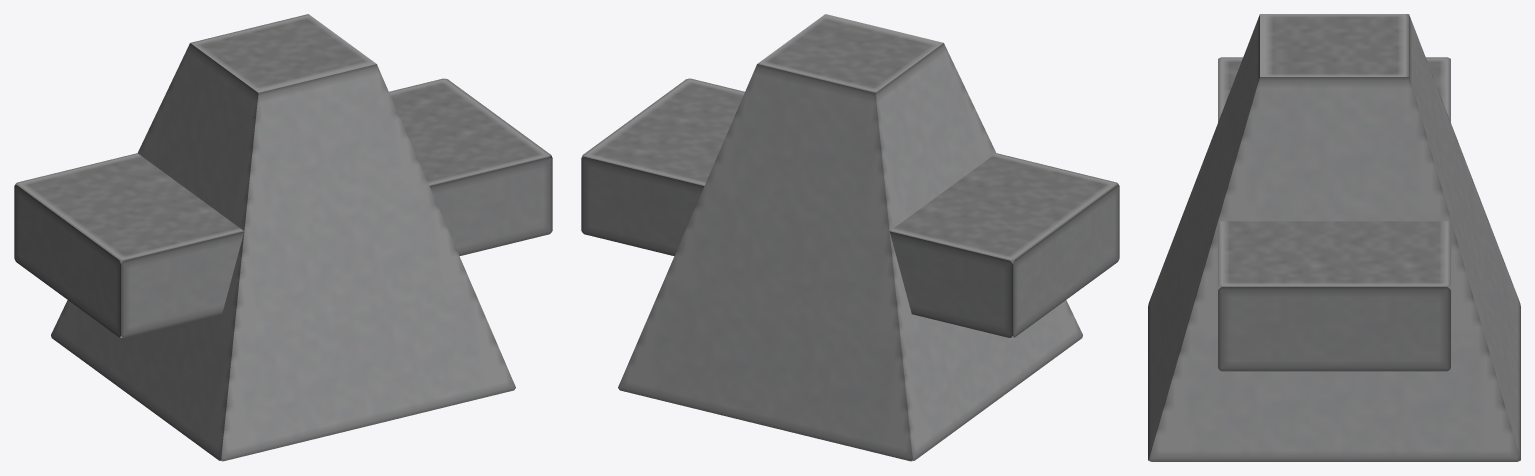
File: thick_mast.obj
3 renders of one model, left to right at view 1: azimuth 30°, elevation 25°; view 2: azimuth 150°, elevation 25°; view 3: azimuth 270°, elevation 25°, orthographic. The views are drawn at different scales.
Visible parts, largest first — view 1: cylinder, cube; view 2: cylinder, cube; view 3: cylinder, cube.
Part boxes in pixels (x1=…): cylinder: x1=51, y1=14, x2=515, y2=461; cube: x1=14, y1=78, x2=552, y2=337; cylinder: x1=618, y1=14, x2=1082, y2=461; cube: x1=581, y1=78, x2=1119, y2=337; cylinder: x1=1148, y1=14, x2=1520, y2=461; cube: x1=1218, y1=57, x2=1450, y2=371.
Bounding box in the file's own units: 4.38 × 3 × 3.
